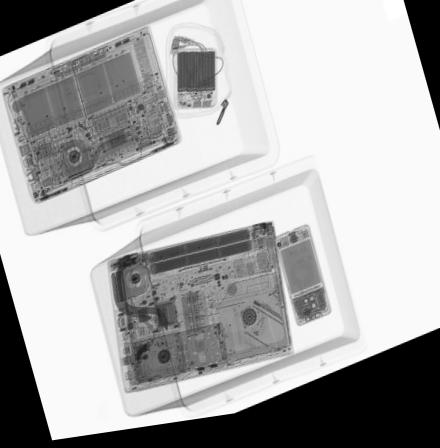Powerbank: (176, 54, 215, 114)
